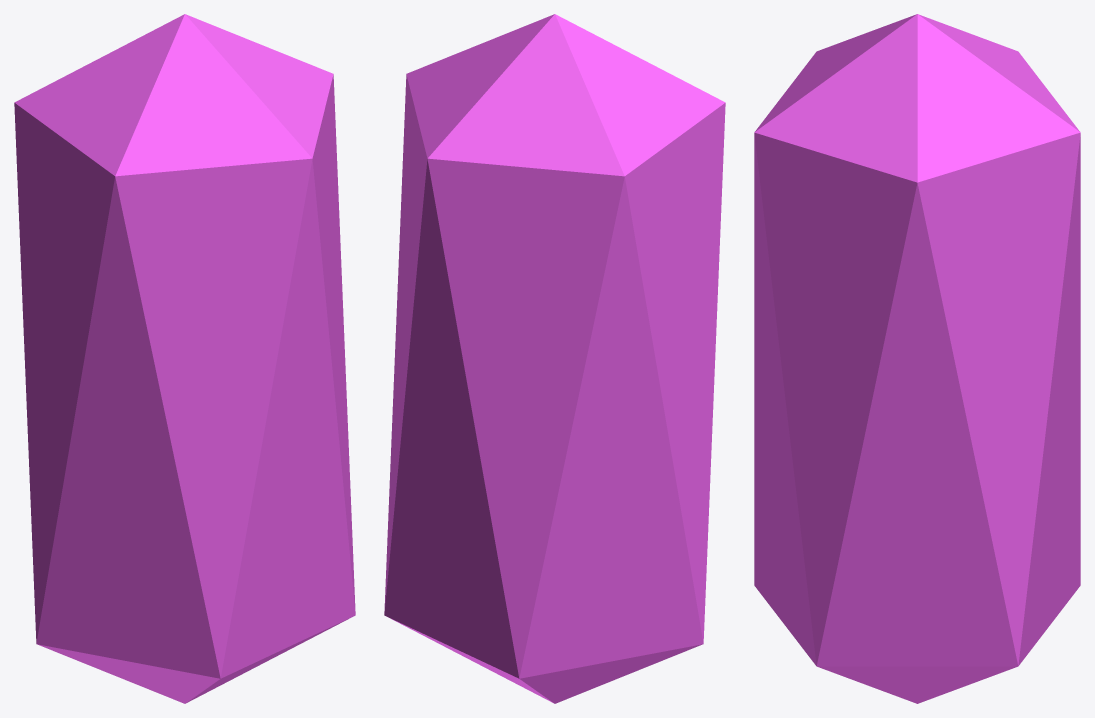
File: crystal.fbx
The picture shows the model from 3 angles, left to right: view 1: azimuth 30°, elevation 25°; view 2: azimuth 150°, elevation 25°; view 3: azimuth 270°, elevation 25°; orthographic projection.
Visible parts, largest first — view 1: crystal; view 2: crystal; view 3: crystal.
Boxes of the visible parts, x1,y1,x2,y2 form: crystal: (14,14,355,703); crystal: (384,14,725,703); crystal: (754,14,1080,703).
Bounding box in the file's own units: 179 × 397 × 170.
